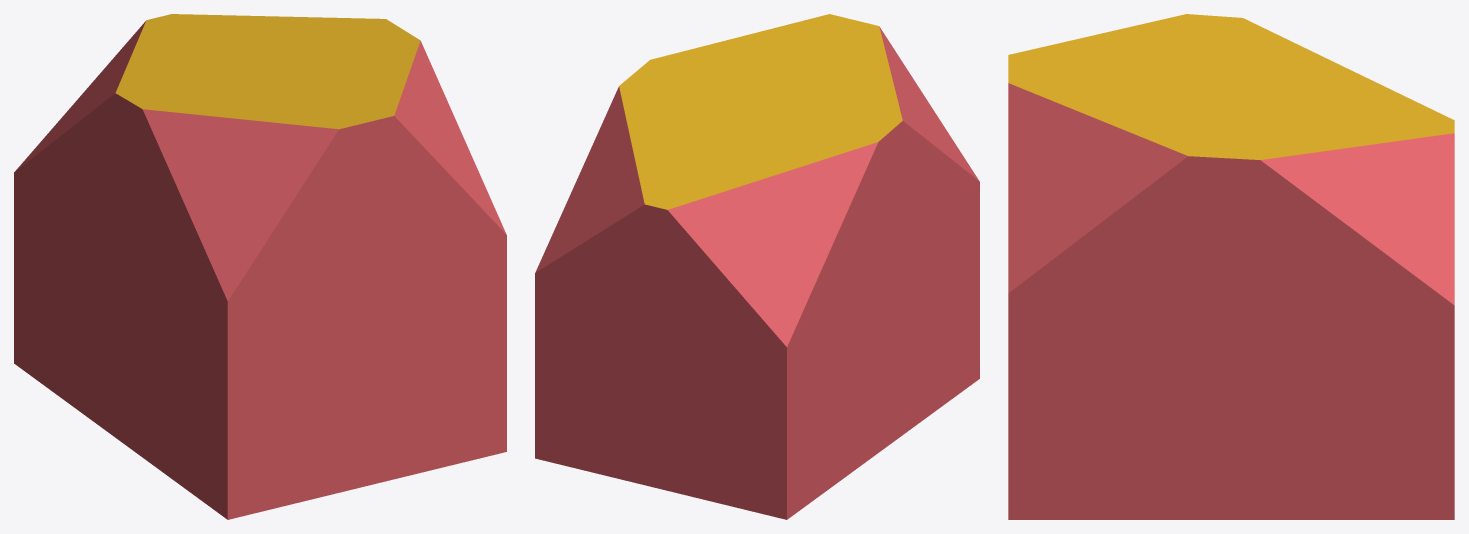
The model's file is Floor3.fbx.
The picture shows the model from 3 angles, left to right: view 1: azimuth 30°, elevation 25°; view 2: azimuth 150°, elevation 25°; view 3: azimuth 270°, elevation 25°; orthographic projection. The views are drawn at different scales.
Visible parts, largest first — view 1: Cube.001; view 2: Cube.001; view 3: Cube.001.
Part boxes in pixels (x1,y1,x2,y2): Cube.001: (14,14,506,519); Cube.001: (535,14,979,519); Cube.001: (1008,14,1454,519).
Size of the model in its own units: 340 by 423 by 451.
